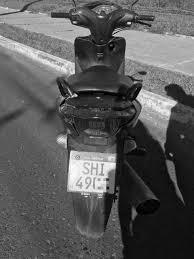placa_mercosul: (67, 151, 117, 194)
